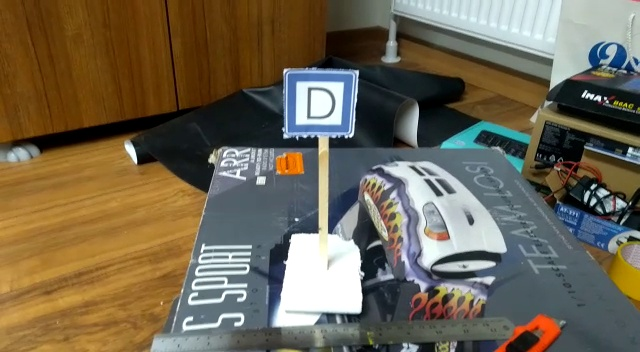durak: (284, 68, 355, 133)
